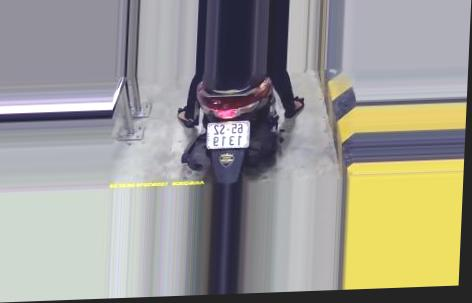License_Plate: (205, 115, 255, 153)
